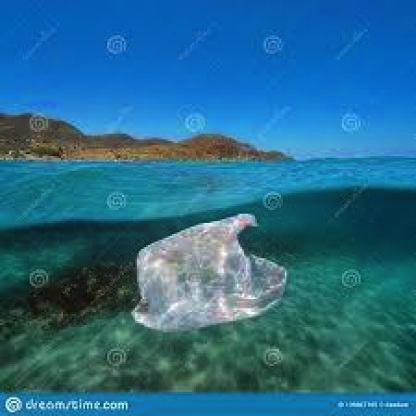pbag: (131, 212, 287, 332)
